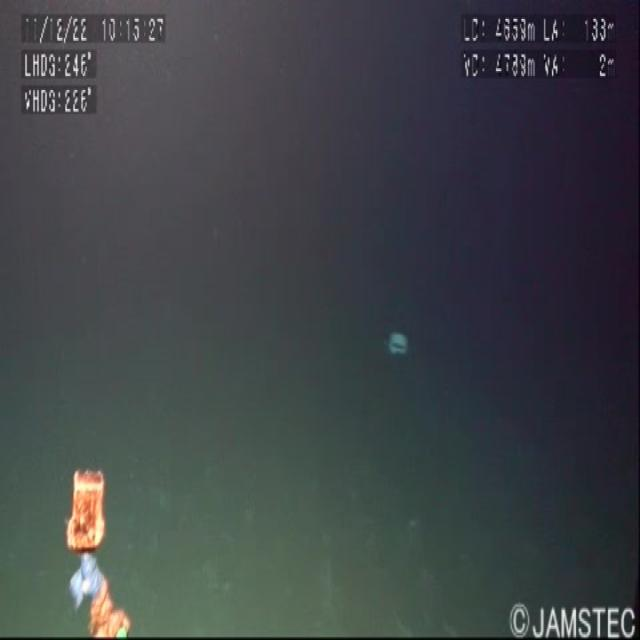Litter: (350, 314, 434, 428)
